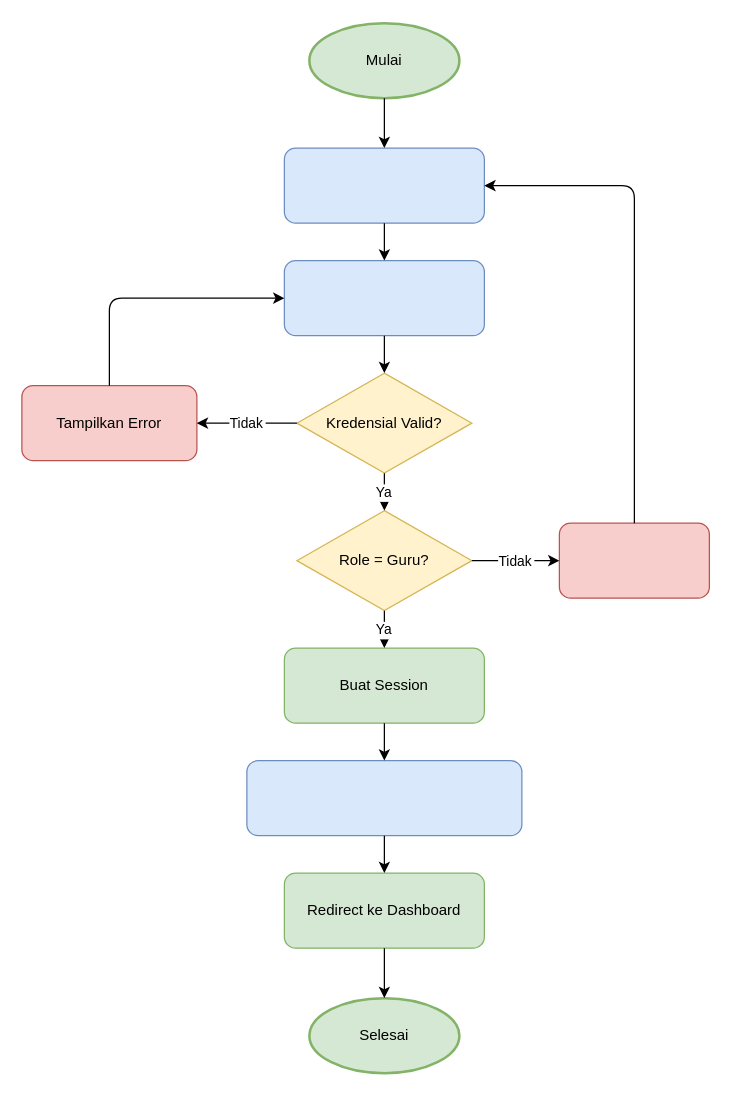
Some shapes in this 731 by 1095 pixel diagram are drawn without their labels. The box of each missing label's shape, as (x1, y1, x2, y2) in pixels:
Akses Ditolak: (558, 522, 709, 598)
Akses Halaman Login: (283, 147, 484, 223)
Input Email & Password: (283, 259, 484, 336)
Pilih Aplikasi (SD/SMP/SMA): (246, 759, 522, 836)
